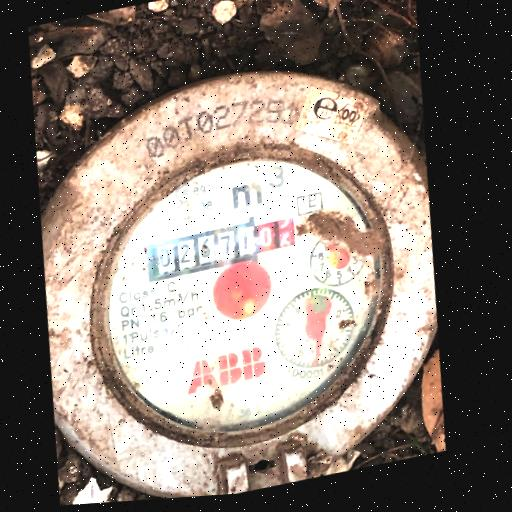0: (153, 243, 180, 276), (255, 221, 278, 253)
1: (236, 226, 259, 257)
2: (176, 239, 199, 271)
6: (196, 234, 218, 266), (275, 217, 297, 248)
7: (214, 230, 239, 262)
border_water_meter_number: (138, 205, 302, 288)
